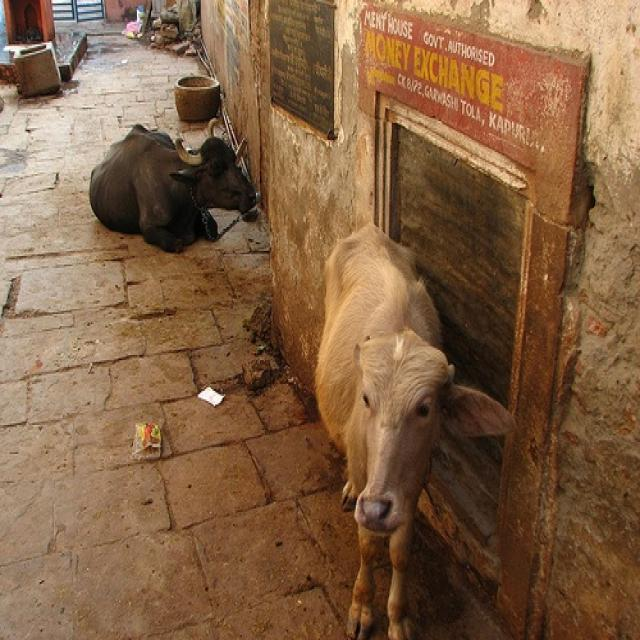cow: (311, 220, 516, 638), (87, 123, 261, 259)
